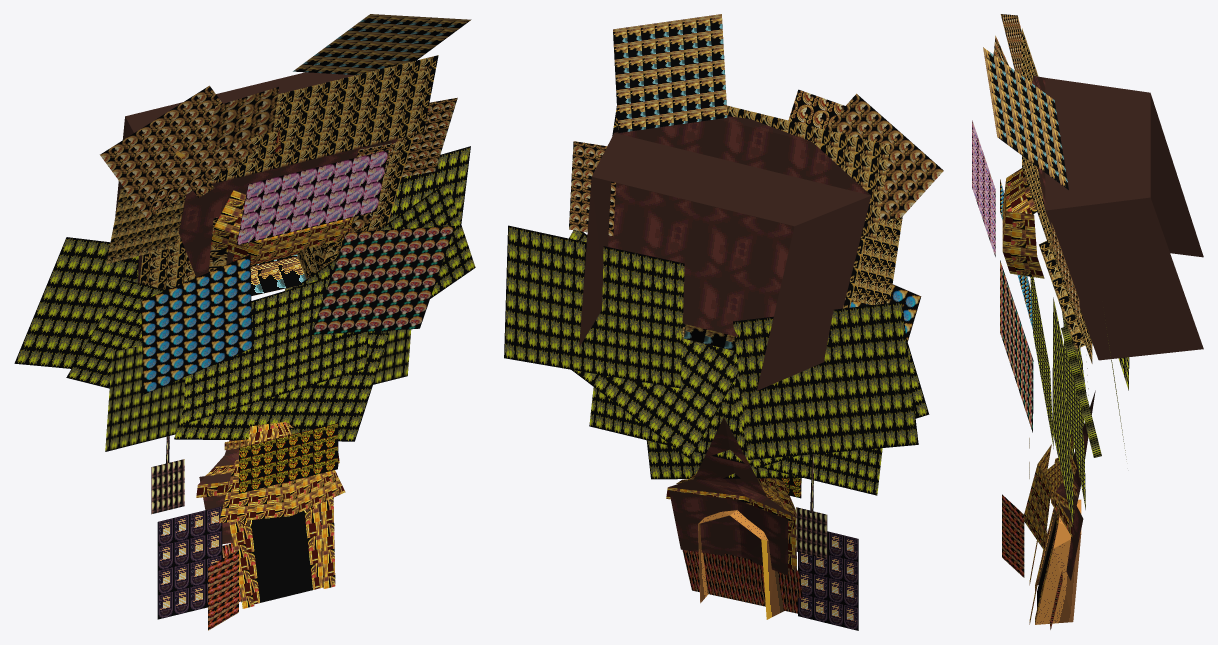
File: tp_ken00.gltf
3 views of the same model, side by side, from view 1: azimuth 30°, elevation 25°; view 2: azimuth 150°, elevation 25°; view 3: azimuth 270°, elevation 25° (orthographic). The views are drawn at different scales.
Parts seen in each view (by area): view 1: tp_ken00; view 2: tp_ken00; view 3: tp_ken00.
Boxes of the visible parts, x1=… form: tp_ken00: x1=14, y1=14, x2=475, y2=630; tp_ken00: x1=504, y1=14, x2=943, y2=630; tp_ken00: x1=972, y1=14, x2=1203, y2=629.
Bounding box in the file's own units: 5.89 × 7.43 × 2.66.
Materials: 15 (15 with a texture image).
